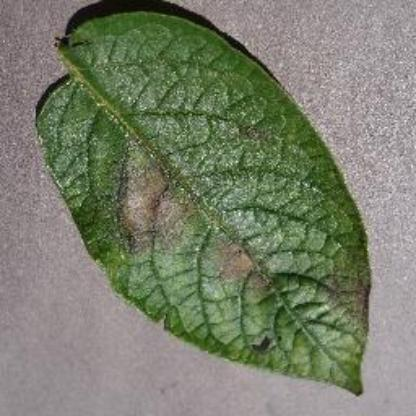Late-Blight: (31, 5, 380, 400)
